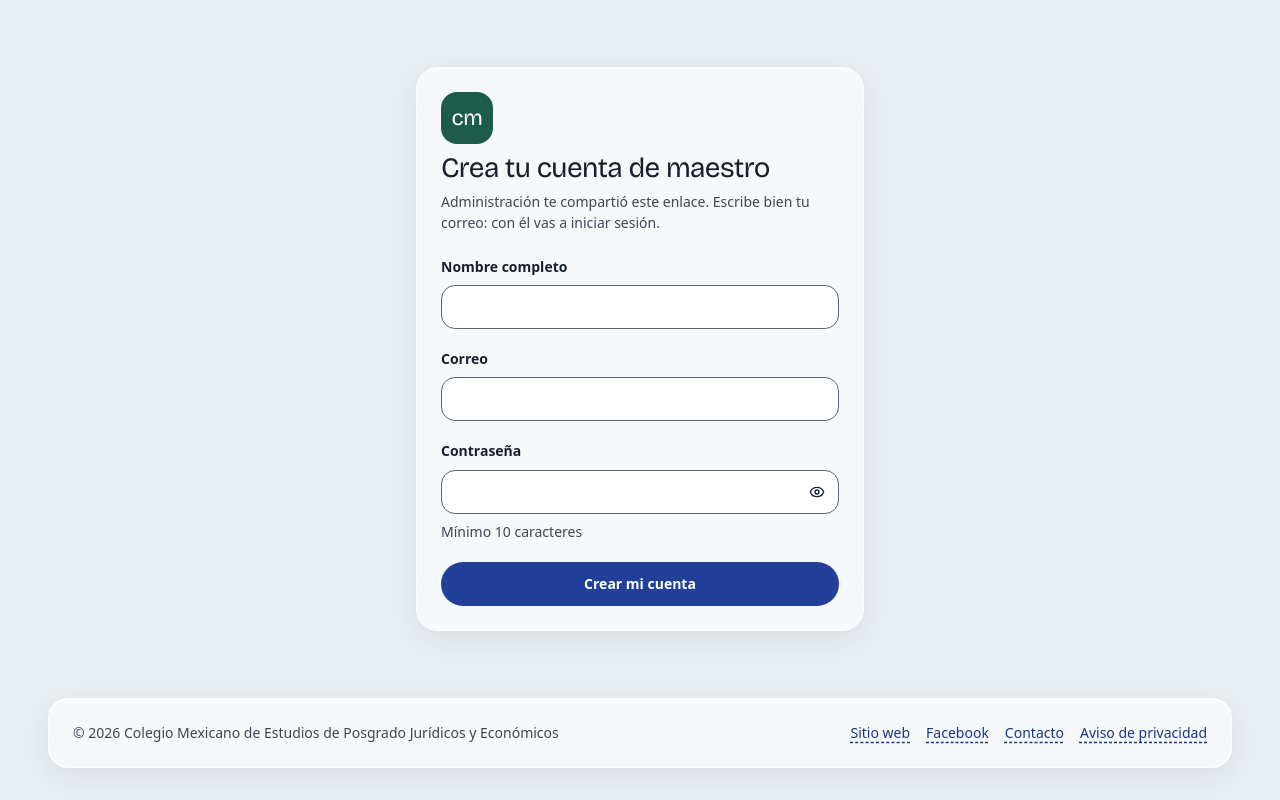
Test case: ataque (AUTH-03b r1): /registro-maestro › CORREO_EN_USO: alerta, se queda en el formulario y la contraseña fuera de la caché
Expected: the button "Crear mi cuenta" is shown, top-left (441, 562), bottom-right (839, 606)
In the field labelled "Nombre completo": (640, 307) top-left (441, 285), bottom-right (839, 329), type "Luis Pérez"
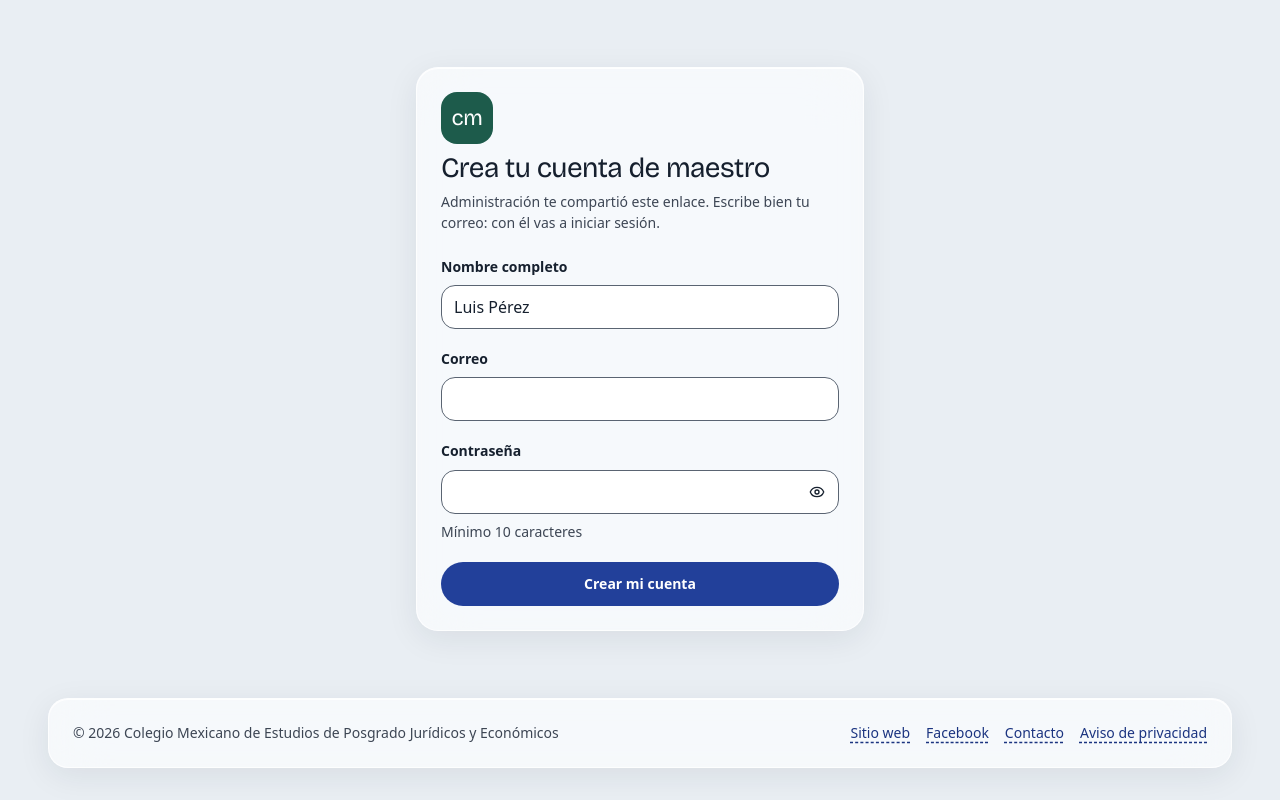
In the field labelled "Correo": (640, 399) top-left (441, 377), bottom-right (839, 421), type "luis@ejemplo.mx"
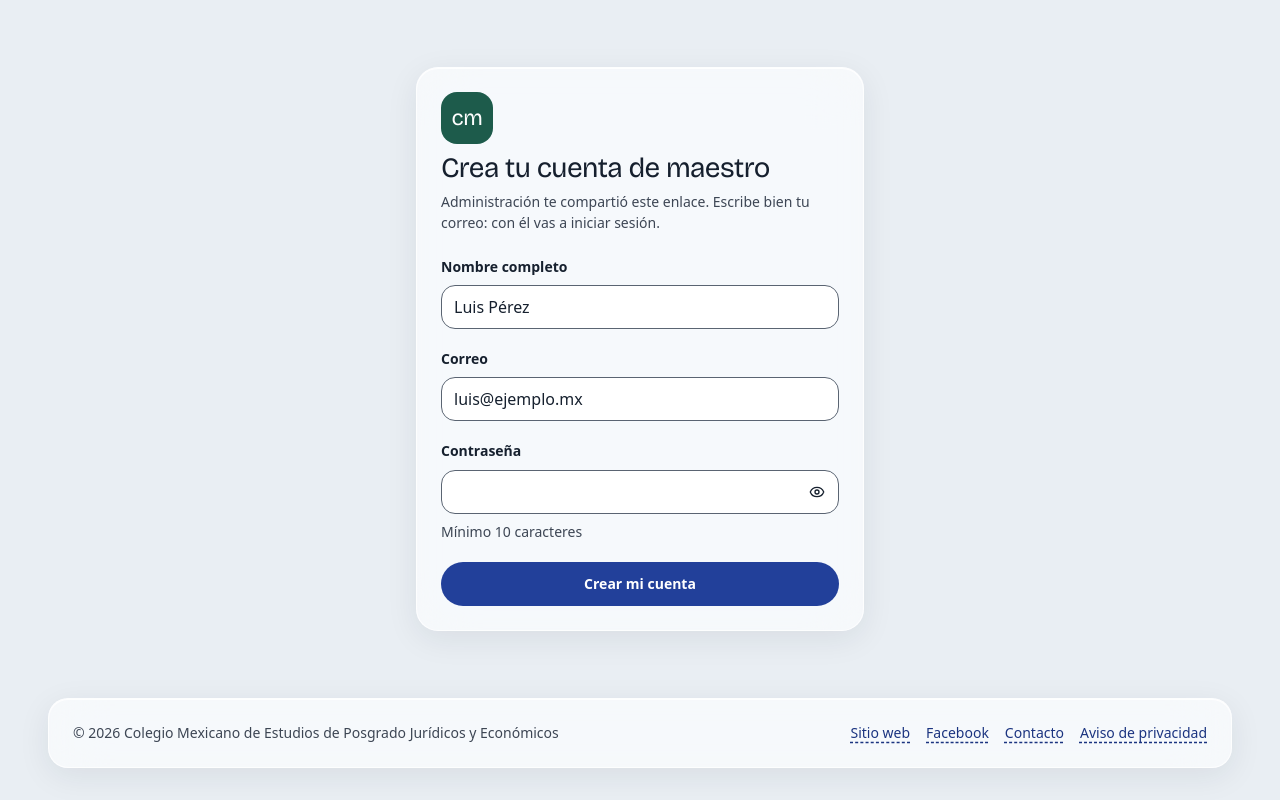
In the password field labelled "Contraseña": (640, 492) top-left (441, 470), bottom-right (839, 514), type "clave-del-maestro-03b-r1"
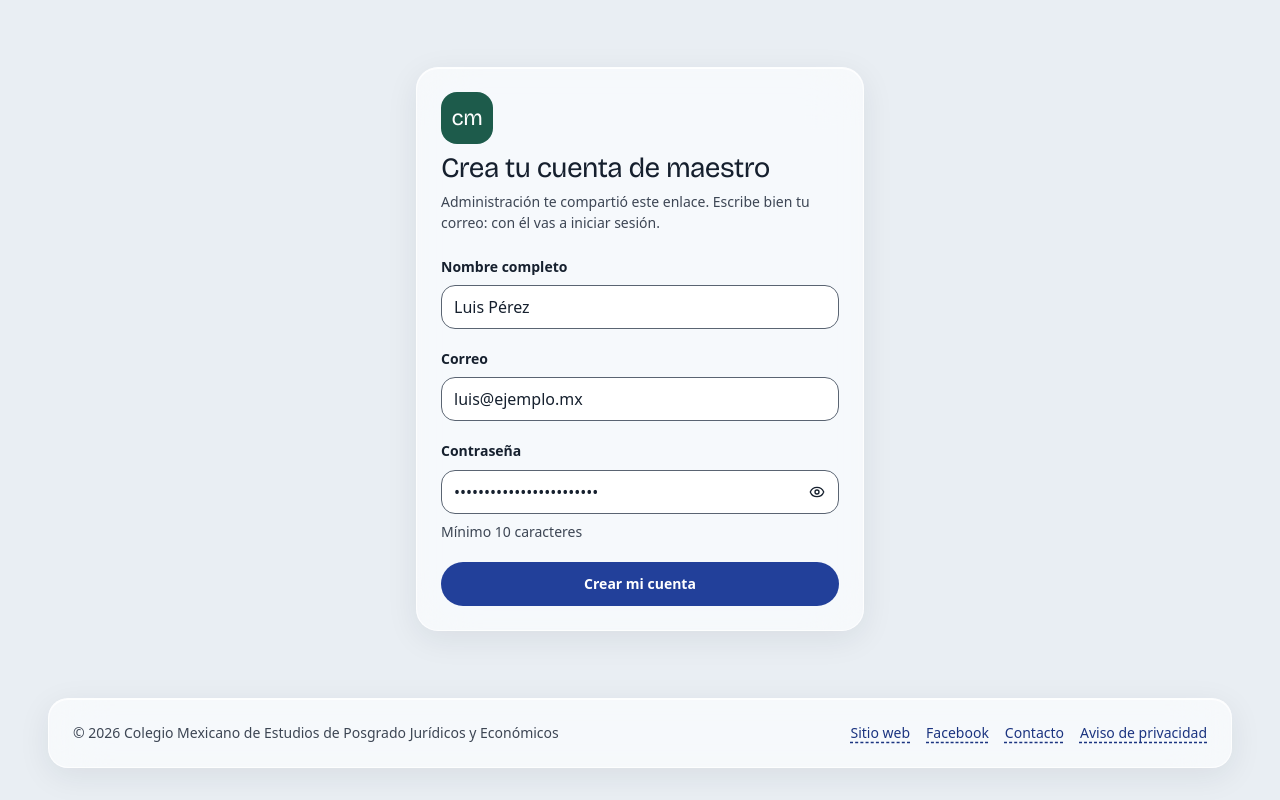
Click the button "Crear mi cuenta": (640, 584) top-left (441, 562), bottom-right (839, 606)
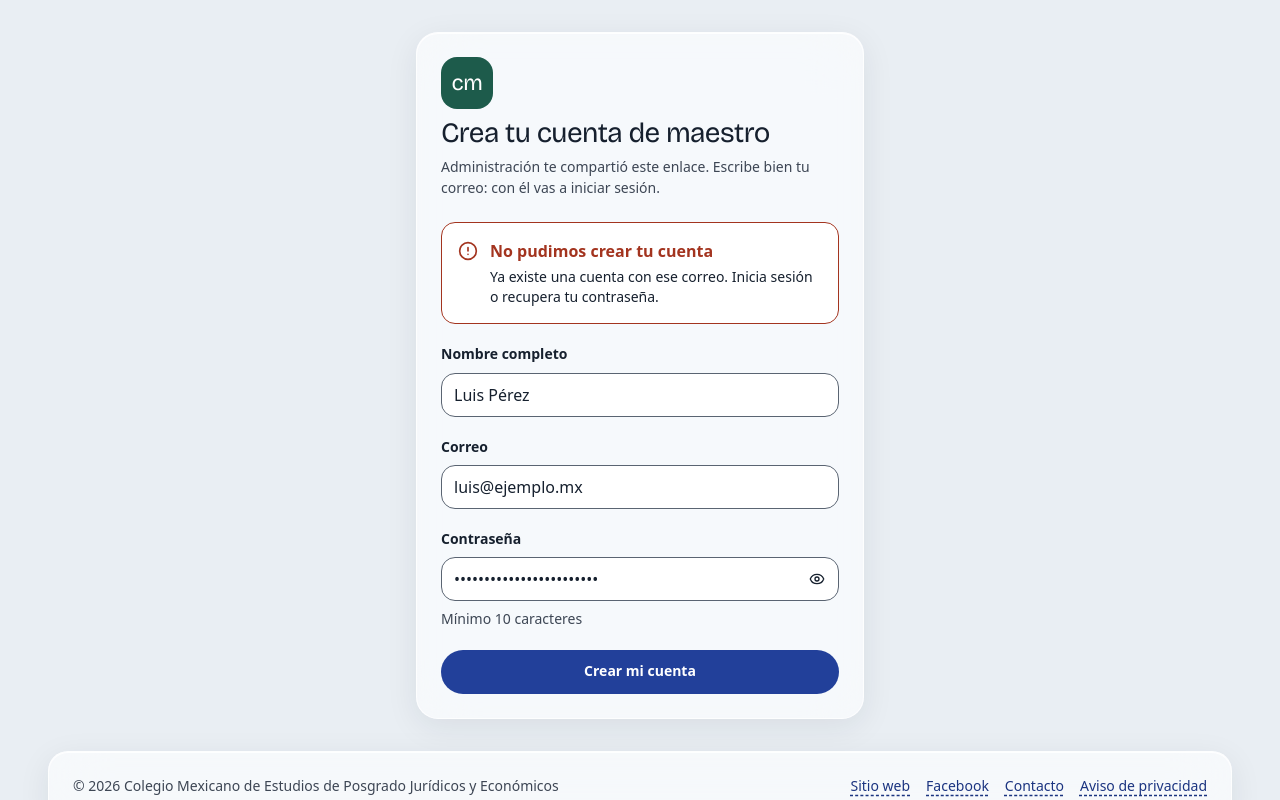
Expected: the button "Crear mi cuenta" is shown, top-left (441, 650), bottom-right (839, 694)
Result: the message is shown at top-left (441, 222), bottom-right (839, 324)
